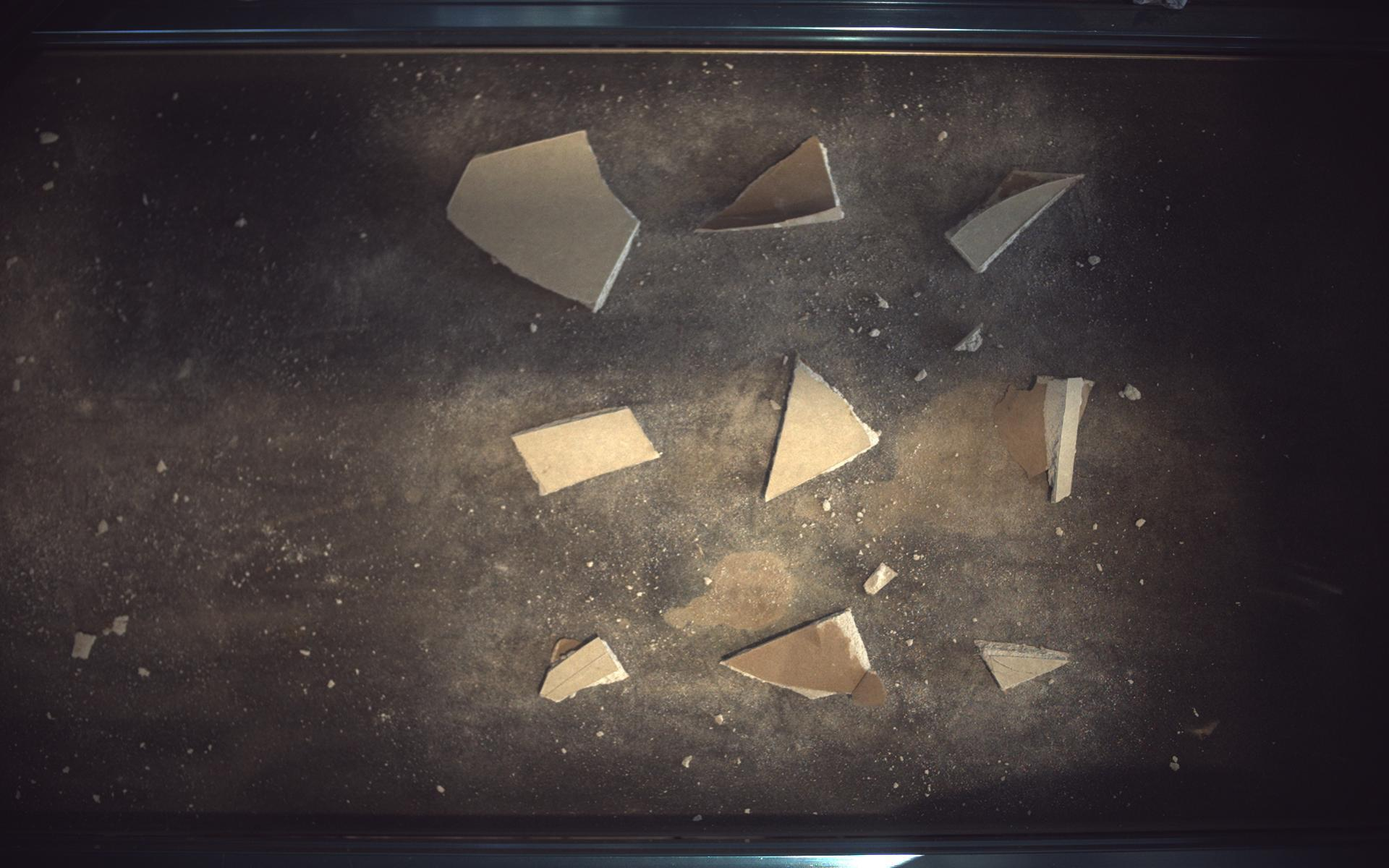gypsum_board: (447, 130, 641, 312), (765, 357, 880, 501), (723, 611, 888, 707), (948, 168, 1086, 273), (697, 136, 846, 231), (995, 376, 1097, 503), (514, 407, 660, 495), (540, 638, 629, 704), (977, 642, 1072, 692)
